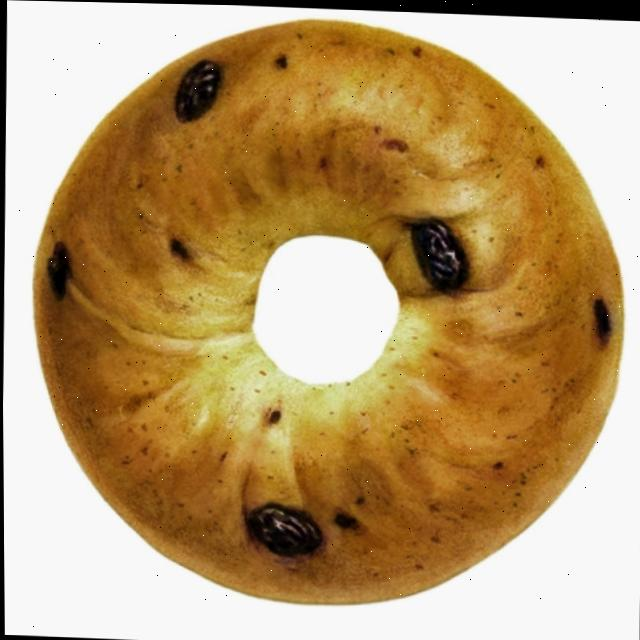面包点心: (5, 0, 640, 628)
